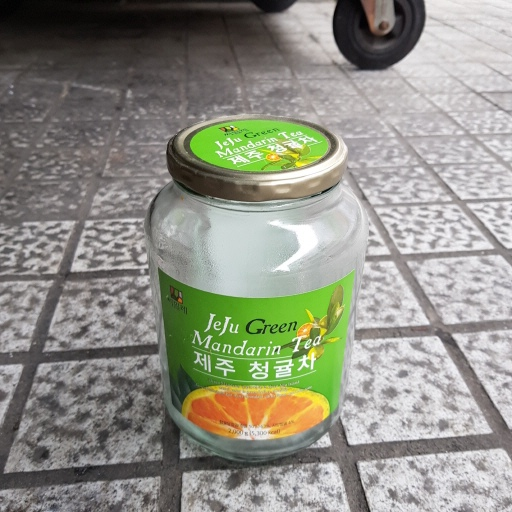Glass_5: (136, 113, 376, 463)
